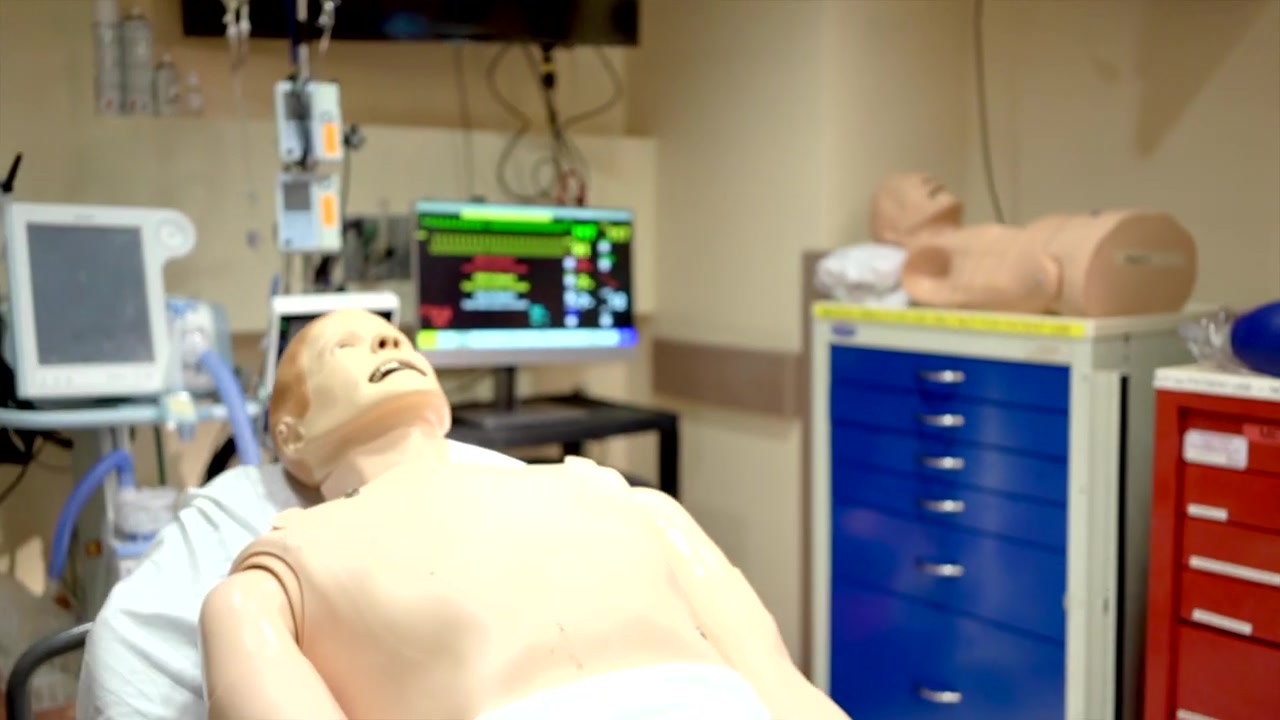TV: (179, 1, 639, 46)
bedside_monitor: (414, 198, 636, 352), (21, 206, 190, 391)
breathing_tube: (189, 330, 264, 464)
handle: (921, 684, 962, 720), (915, 370, 970, 387), (920, 557, 959, 579), (916, 412, 965, 429), (920, 455, 968, 469), (919, 498, 964, 512)
hospital_bed: (73, 435, 533, 720)
infusion_pump: (273, 84, 351, 162), (274, 173, 342, 253)
medical_drawer: (808, 292, 1227, 720), (1141, 360, 1280, 720)
